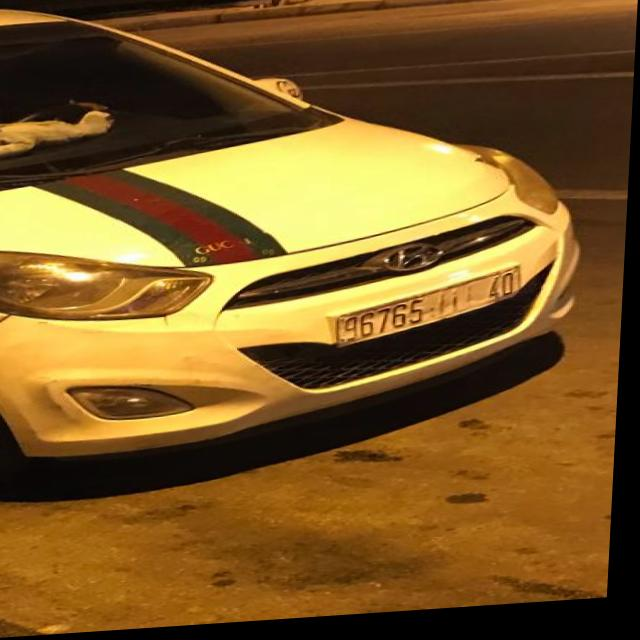License-Plate: (341, 276, 525, 350)
